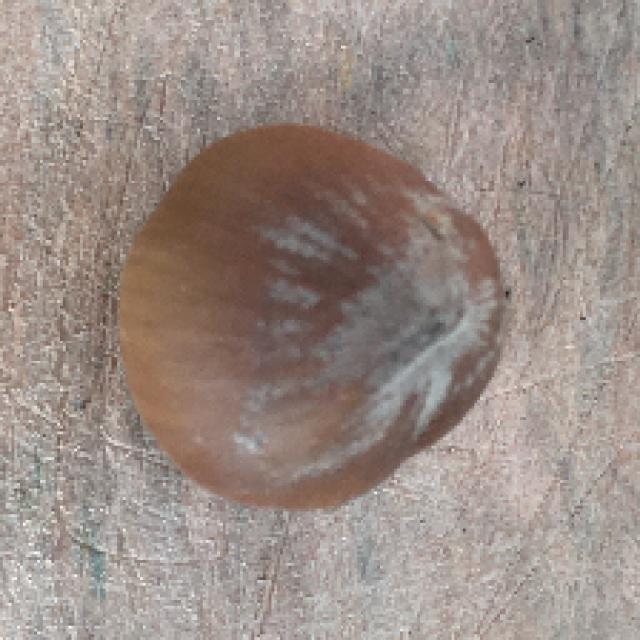damagedHazelnut: (106, 113, 516, 524)
